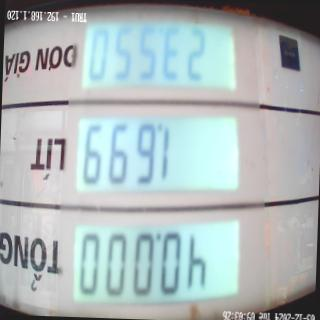screen: (65, 9, 252, 316)
